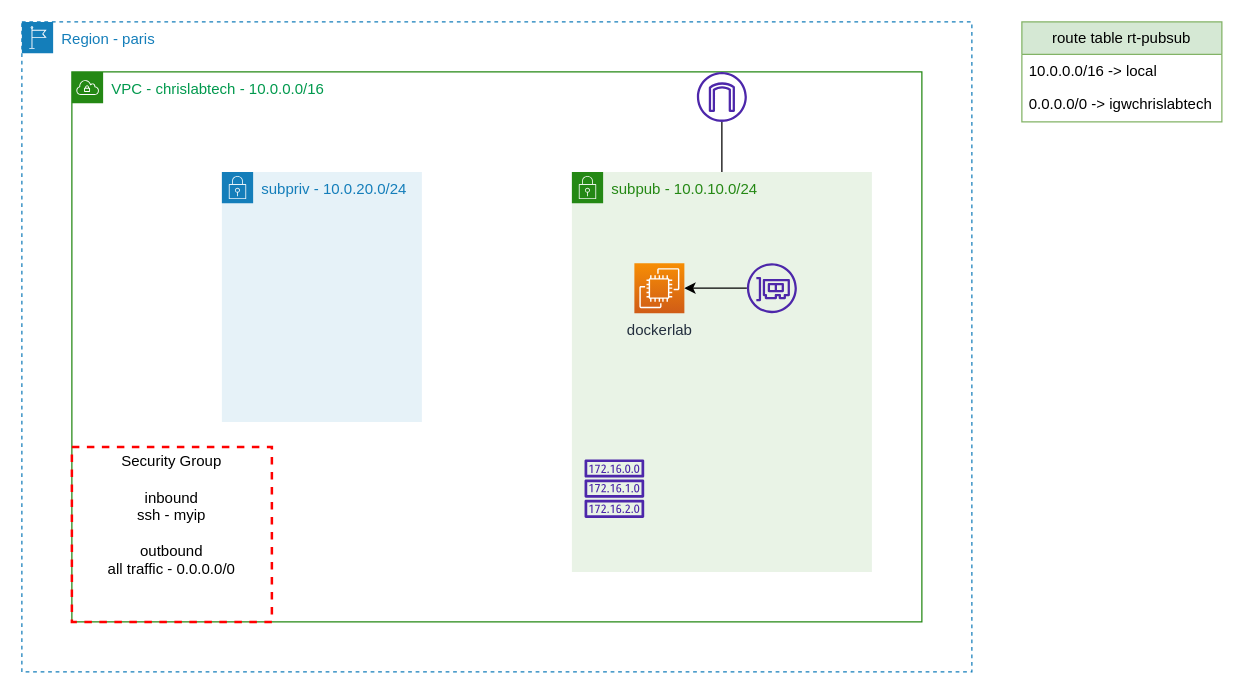
This 1244x694 diagram has some shape labels left out. Here are the shapes that lost their labels. From the top down, the centre of each, then its label:
the point at 721,96: igwchrislabtech
the point at 771,287: Network interface eni_chrislab 13.37.200.78 10.0.10.47
the point at 614,488: route table rt-subpub
